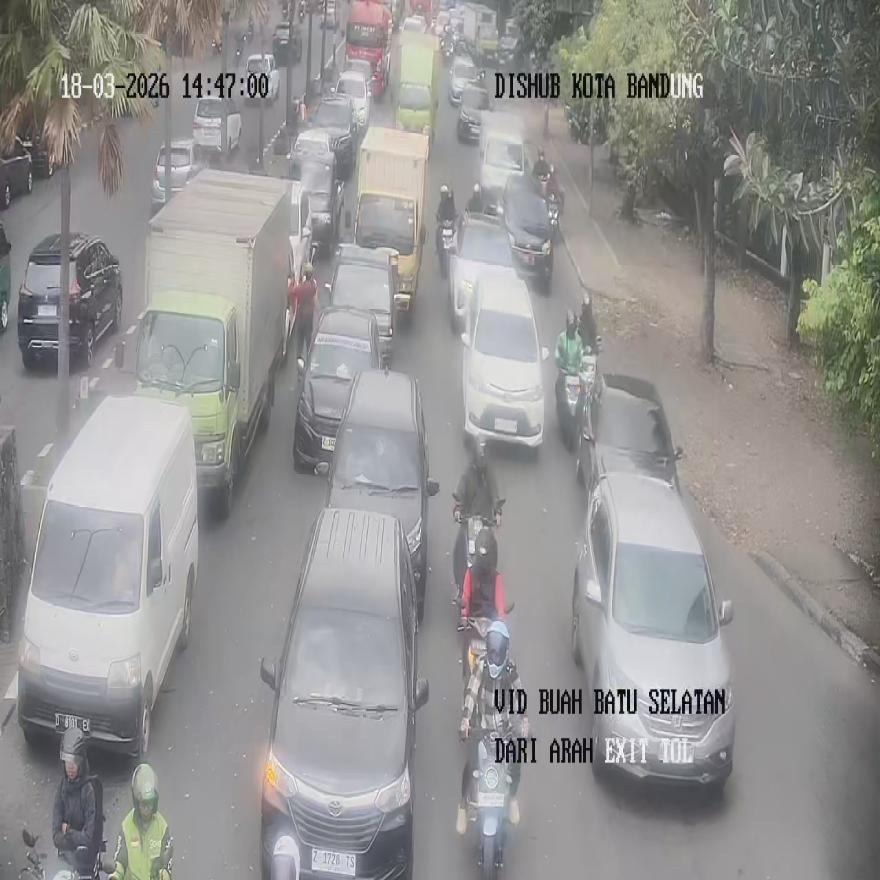Motor: (17, 395, 198, 759), (260, 509, 428, 876), (571, 446, 736, 790), (316, 368, 439, 627), (461, 266, 550, 448), (293, 304, 381, 473), (16, 232, 123, 369), (326, 243, 398, 367)
Truk: (469, 738, 516, 878), (453, 491, 504, 608), (556, 337, 602, 451), (18, 827, 101, 879), (105, 827, 173, 880), (557, 367, 584, 452), (437, 218, 455, 276)
